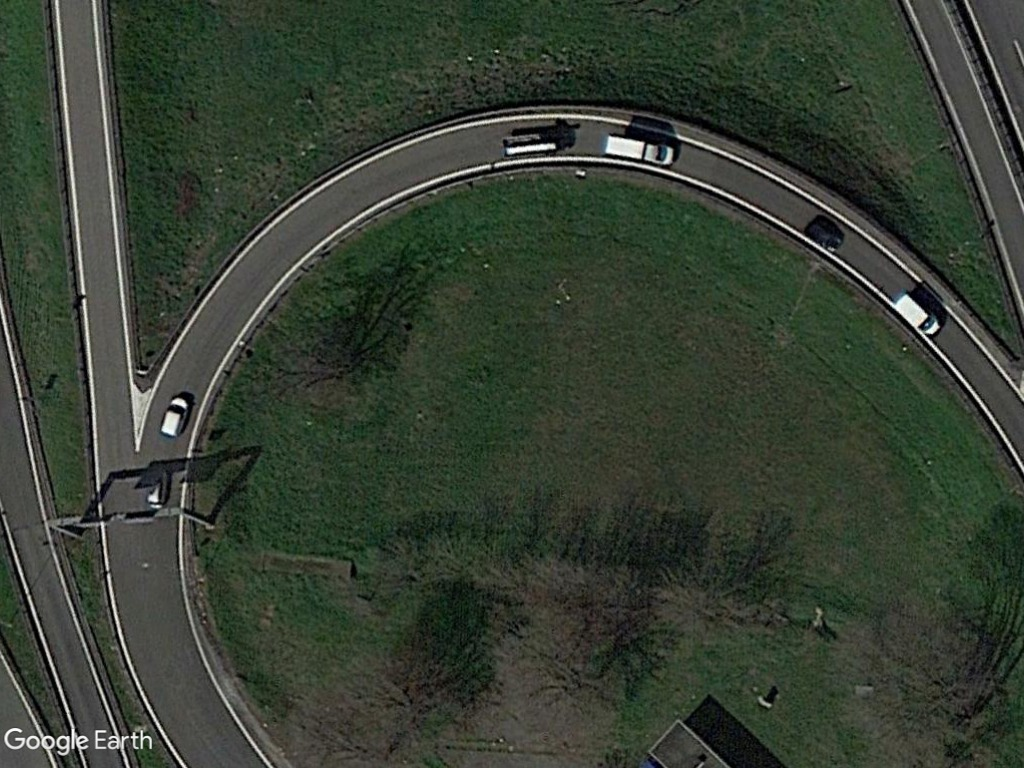van: (886, 287, 946, 339), (600, 130, 680, 168), (158, 394, 195, 440)
